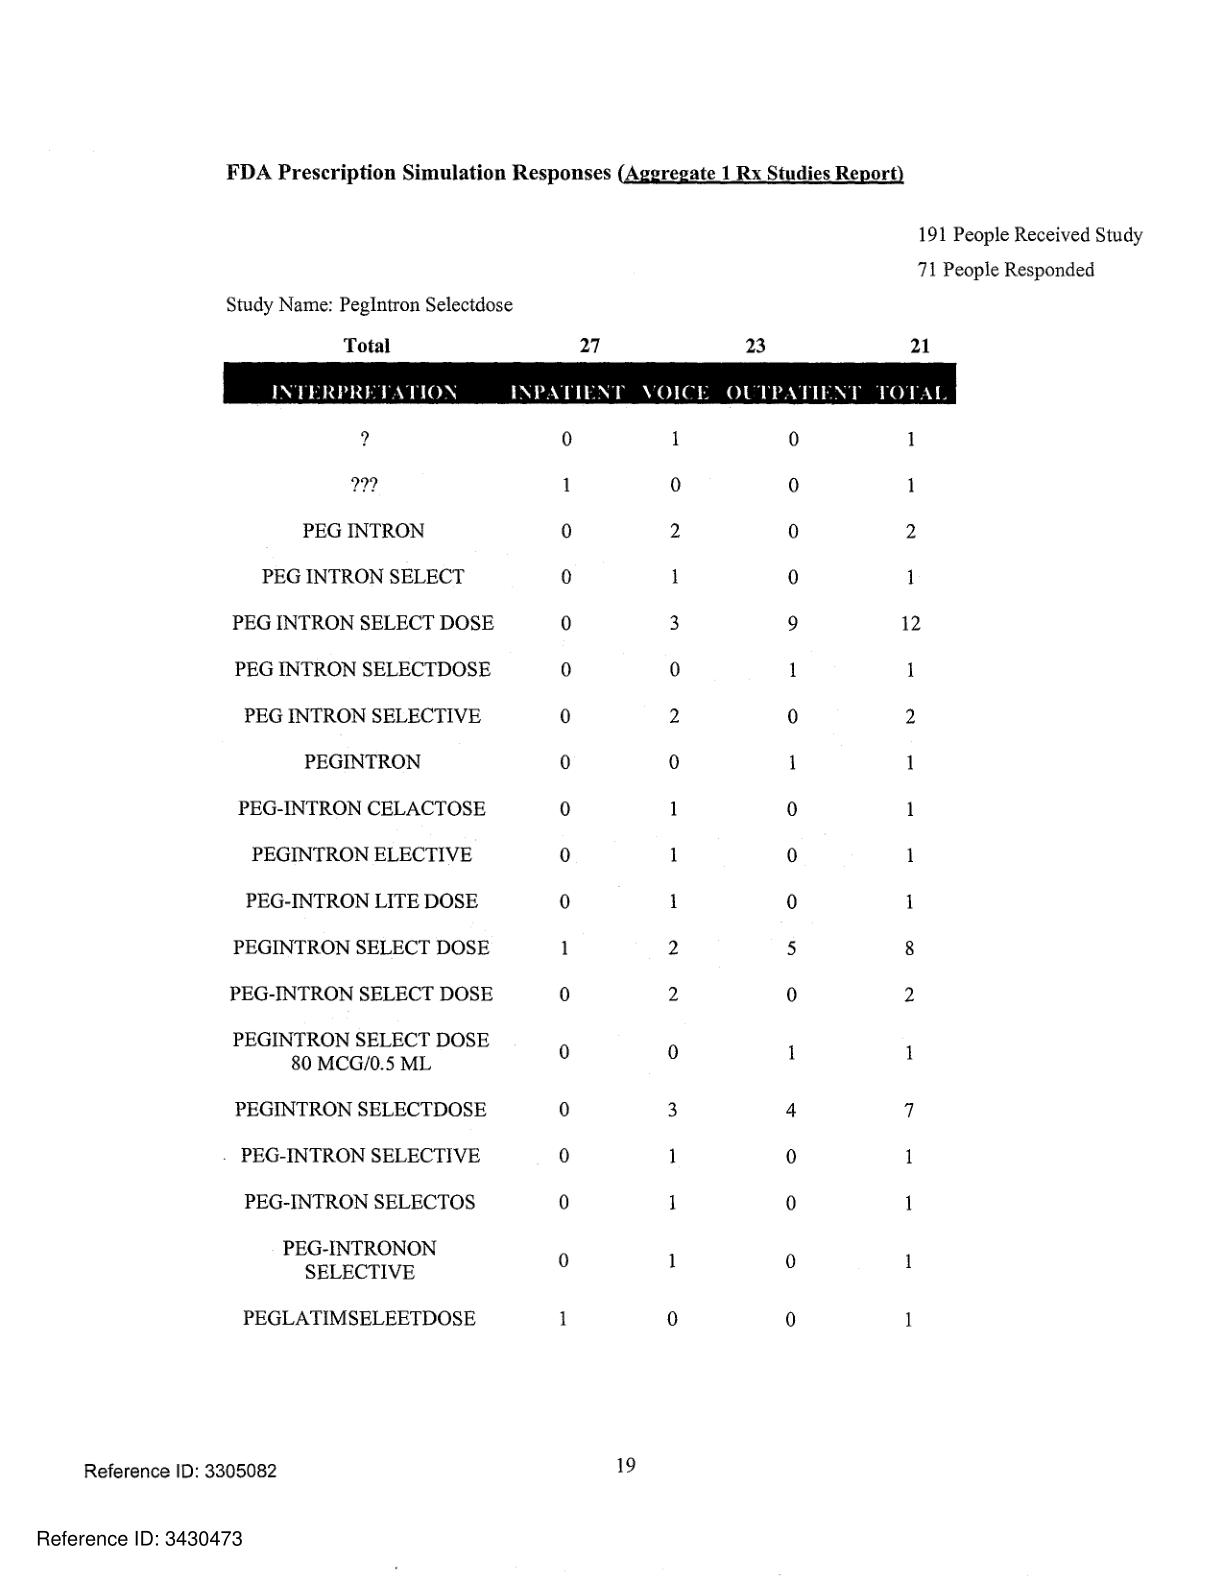nolines: (220, 336, 959, 1341)
